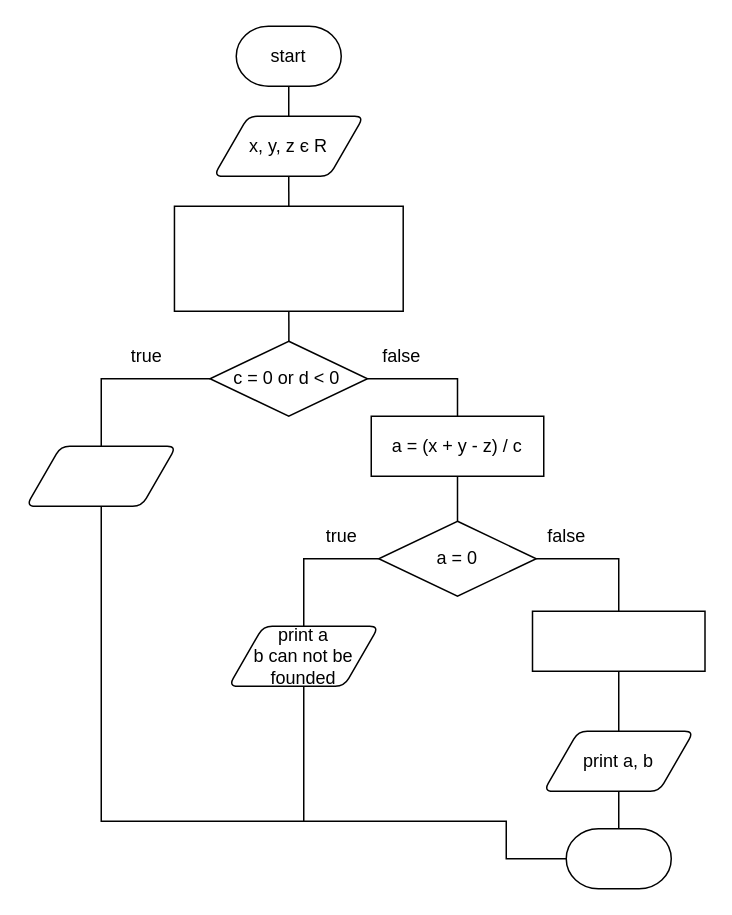
The diagram is 732 pixels wide and 915 high, and some of its shapes have lost their labels. The centre of each missing label's shape, as x and y in pixels:
b = Cos((x * y + Pow(y, 2)) / a * a): (x=618, y=640)
c = Pow(x, z) - Sqrt(Pow(x, 2) - y * Pow(z, 3)) d = Pow(x, 2) - y * Pow(z, 3): (x=288, y=258)
end: (x=618, y=858)
misstake: (x=100, y=475)
